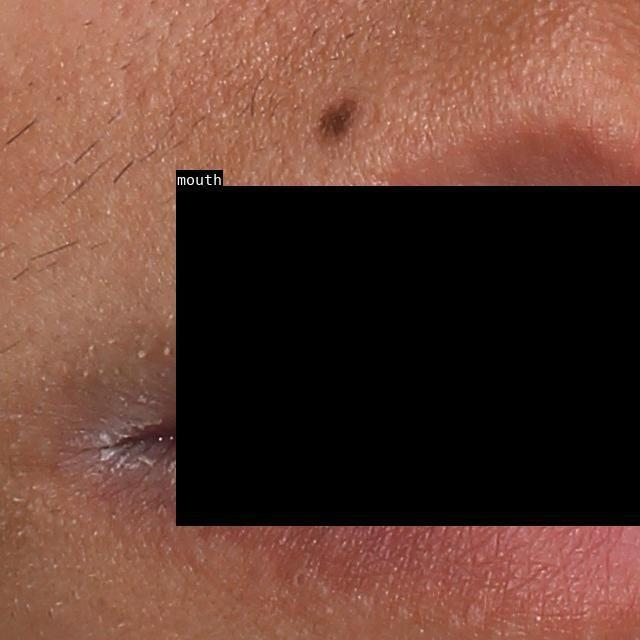nevus: (298, 83, 369, 150)
